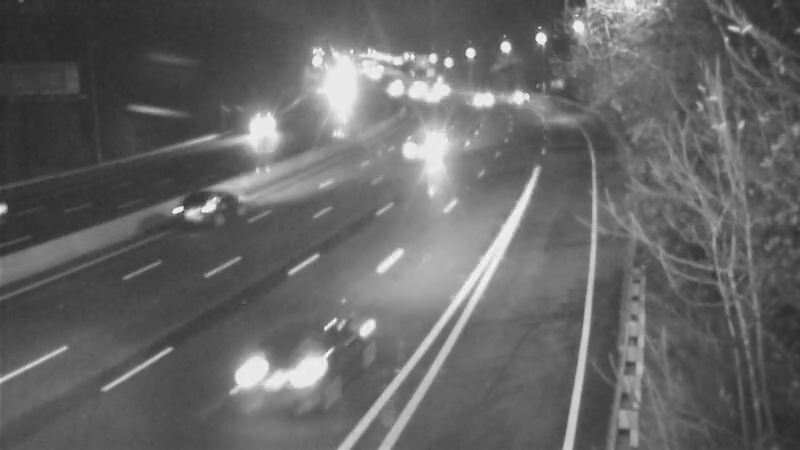vehicle: (230, 314, 340, 424), (161, 175, 241, 255), (1, 170, 63, 250), (492, 71, 542, 121), (403, 72, 453, 122), (457, 74, 507, 124), (408, 115, 458, 165), (238, 106, 288, 156)
